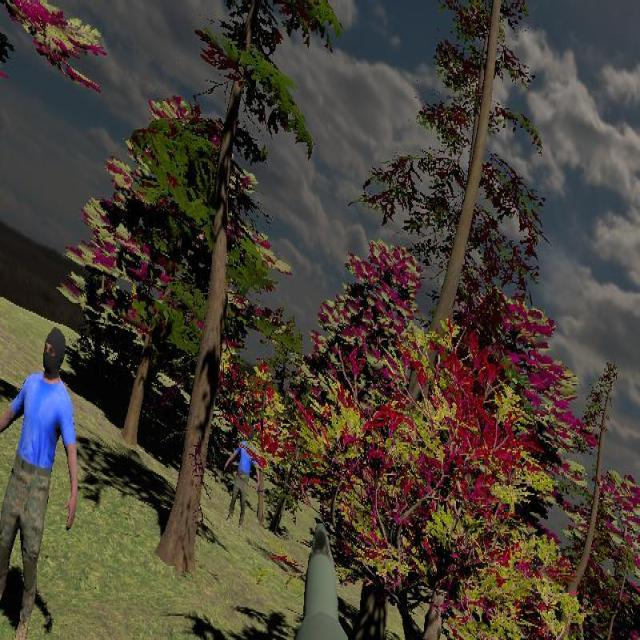Human: (0, 322, 81, 639), (222, 413, 262, 537)
